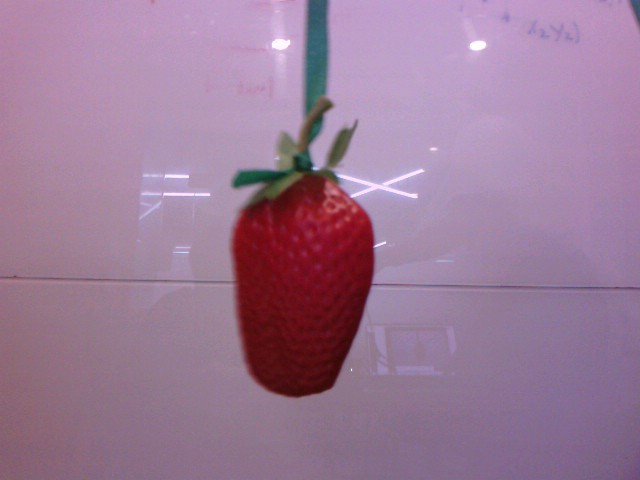strawberry: (225, 156, 382, 399)
